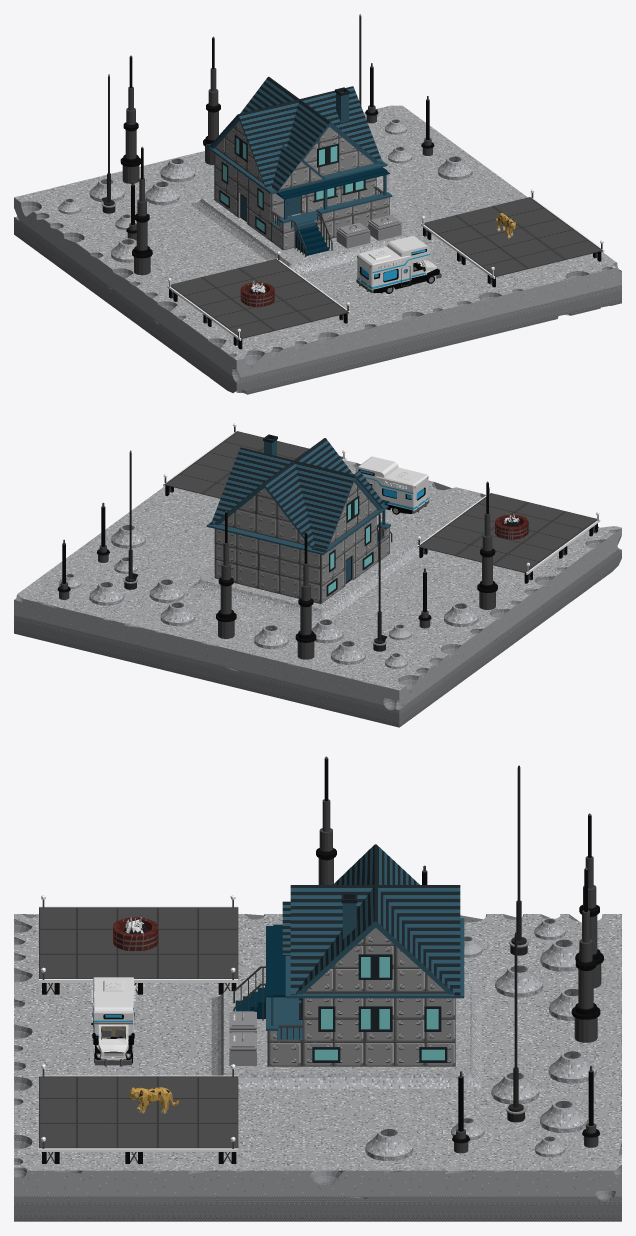
The picture shows the model from 3 angles, top to bottom: view 1: azimuth 30°, elevation 25°; view 2: azimuth 150°, elevation 25°; view 3: azimuth 270°, elevation 25°; orthographic projection. The views are drawn at different scales.
Parts seen in each view (by area): view 1: Cube.027, Cube.078, Cube.026, Cube.025, Cube.028, VEHICLES_CAMPER, Cylinder.020, Cylinder.021, Cylinder.017, OBJRANDOM_CAMPFIRE, Cube.029, Cube.030 (+4 smaller); view 2: Cube.027, Cube.078, Cube.025, Cube.028, Cube.026, VEHICLES_CAMPER, Cylinder.020, Cylinder.021, Cylinder.017, OBJRANDOM_CAMPFIRE, Cylinder.031, Cylinder.028 (+8 smaller); view 3: Cube.027, Cube.078, Cube.026, Cube.025, Cube.028, VEHICLES_CAMPER, Cylinder.017, OBJRANDOM_CAMPFIRE, Cylinder.020, Cylinder.021, Cylinder.033, Cylinder.031 (+11 smaller).
Boxes of the visible parts, box(x1,y1,x2,y2) form: Cube.027: box(14, 105, 621, 394); Cube.078: box(205, 76, 392, 256); Cube.026: box(421, 189, 604, 287); Cube.025: box(167, 251, 350, 349); Cube.028: box(191, 195, 424, 274); VEHICLES_CAMPER: box(356, 236, 441, 293); Cylinder.020: box(120, 55, 140, 183); Cylinder.021: box(132, 146, 152, 275); Cylinder.017: box(203, 36, 220, 164); OBJRANDOM_CAMPFIRE: box(240, 281, 274, 307); Cube.029: box(336, 222, 370, 248); Cube.030: box(368, 215, 401, 240); Cube.027: box(14, 460, 621, 727); Cube.078: box(206, 434, 392, 603); Cube.025: box(417, 485, 600, 583); Cube.028: box(190, 538, 419, 620); Cube.026: box(163, 423, 346, 498); VEHICLES_CAMPER: box(355, 456, 429, 514); Cylinder.020: box(295, 531, 316, 659); Cylinder.021: box(477, 481, 497, 609); Cylinder.017: box(216, 510, 236, 638); OBJRANDOM_CAMPFIRE: box(494, 512, 528, 539); Cylinder.031: box(89, 581, 124, 605); Cylinder.028: box(331, 640, 365, 664); Cube.027: box(14, 914, 621, 1221); Cube.078: box(233, 844, 464, 1066); Cube.026: box(39, 1064, 238, 1163); Cube.025: box(39, 895, 238, 994); Cube.028: box(211, 991, 481, 1088); VEHICLES_CAMPER: box(91, 977, 135, 1066); Cylinder.017: box(571, 867, 600, 1042); OBJRANDOM_CAMPFIRE: box(113, 915, 158, 950); Cylinder.020: box(575, 813, 603, 988); Cylinder.021: box(316, 756, 336, 884); Cylinder.033: box(365, 1128, 413, 1160); Cylinder.031: box(540, 1100, 587, 1132).
Bounding box in the file's own units: 4000 × 1799 × 4000.
Materials: 37 (6 with a texture image).
